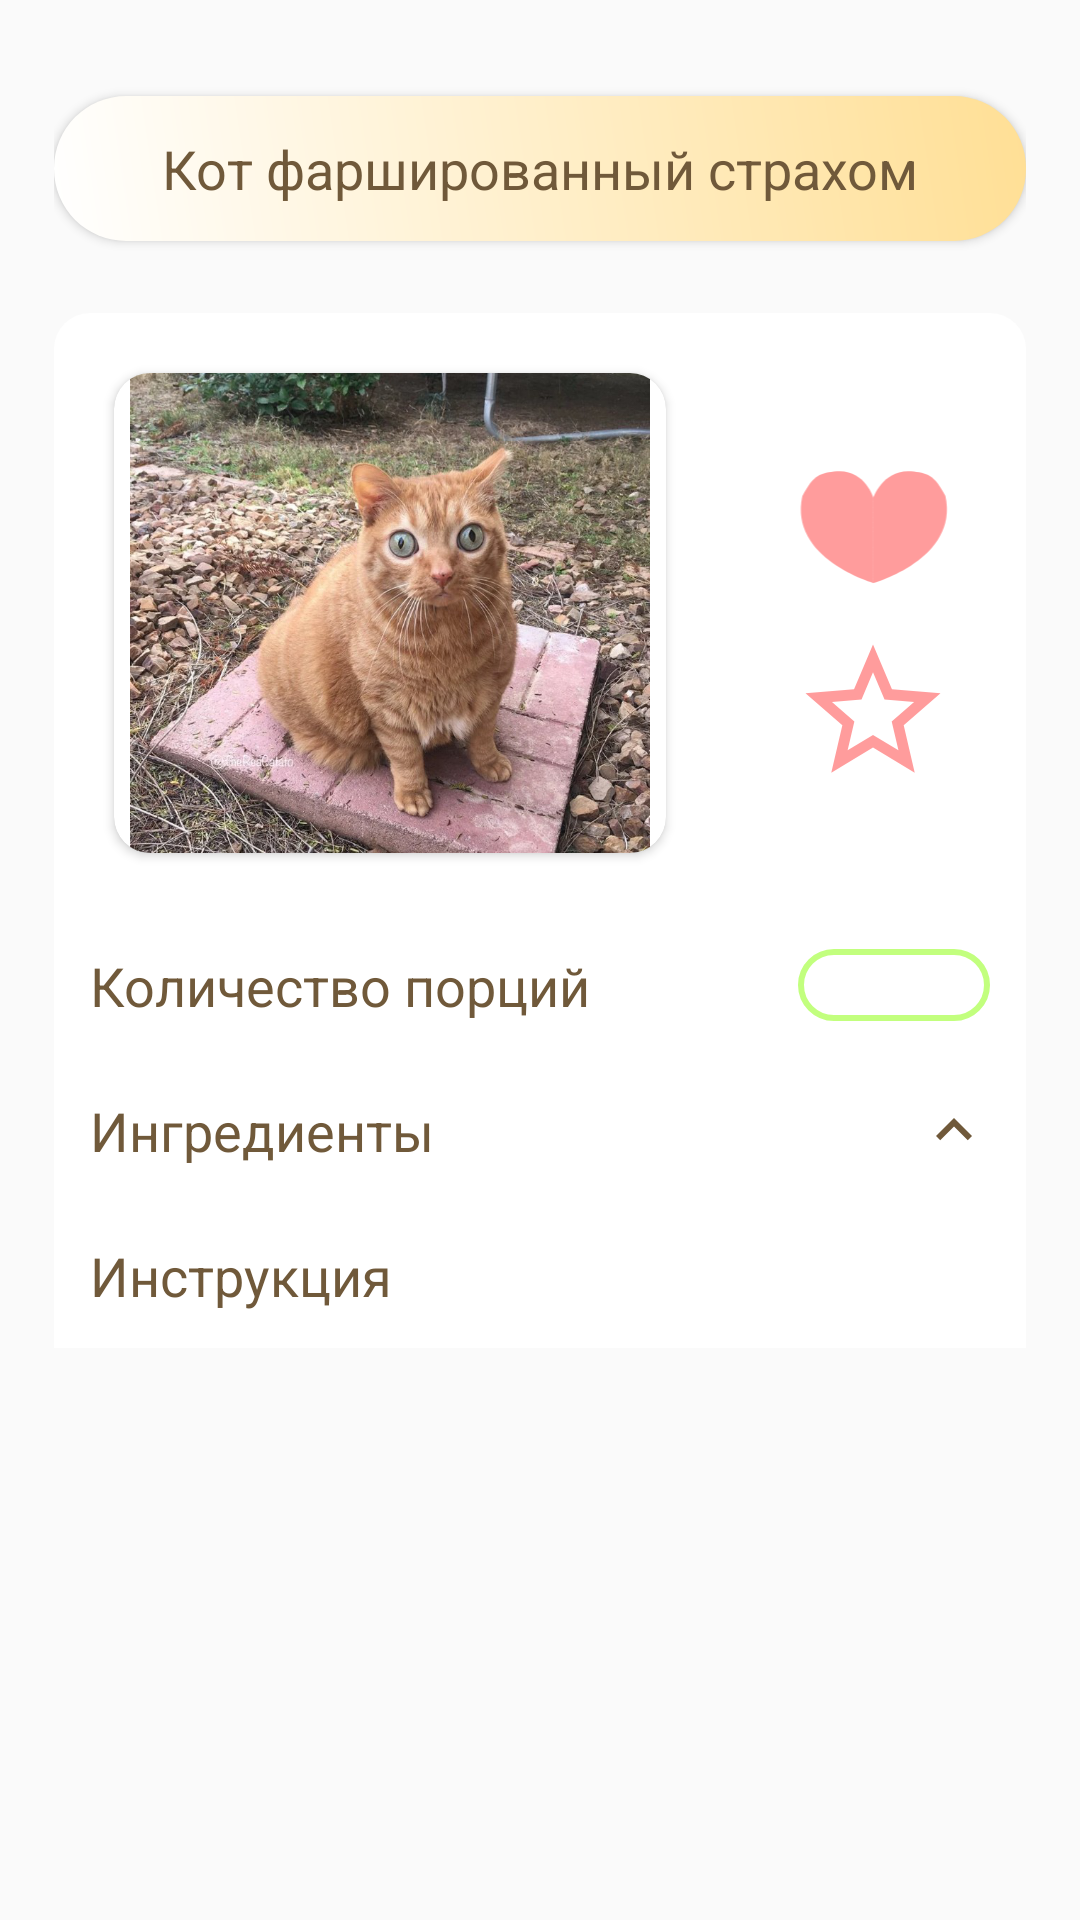

Named icons in this screenshot (1080*1920) and their bounding boxes, detection(x1, y1, x2, y2):
heart: detection(800, 471, 947, 583)
star: detection(806, 645, 940, 773)
